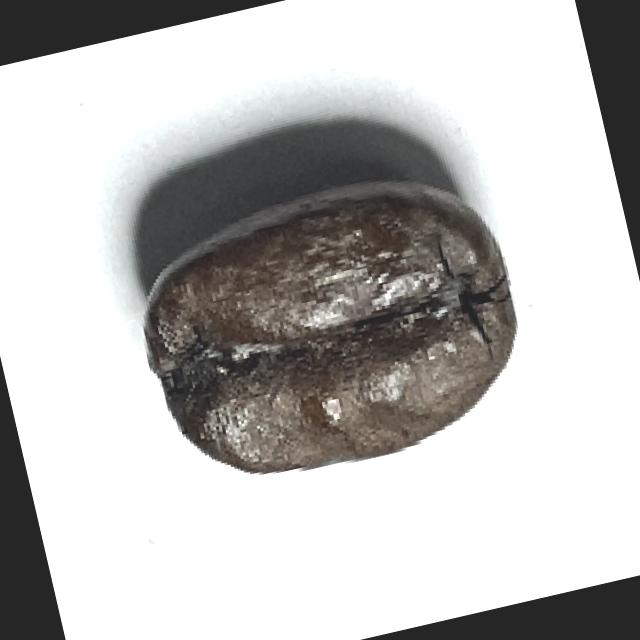bean: (115, 159, 546, 508)
